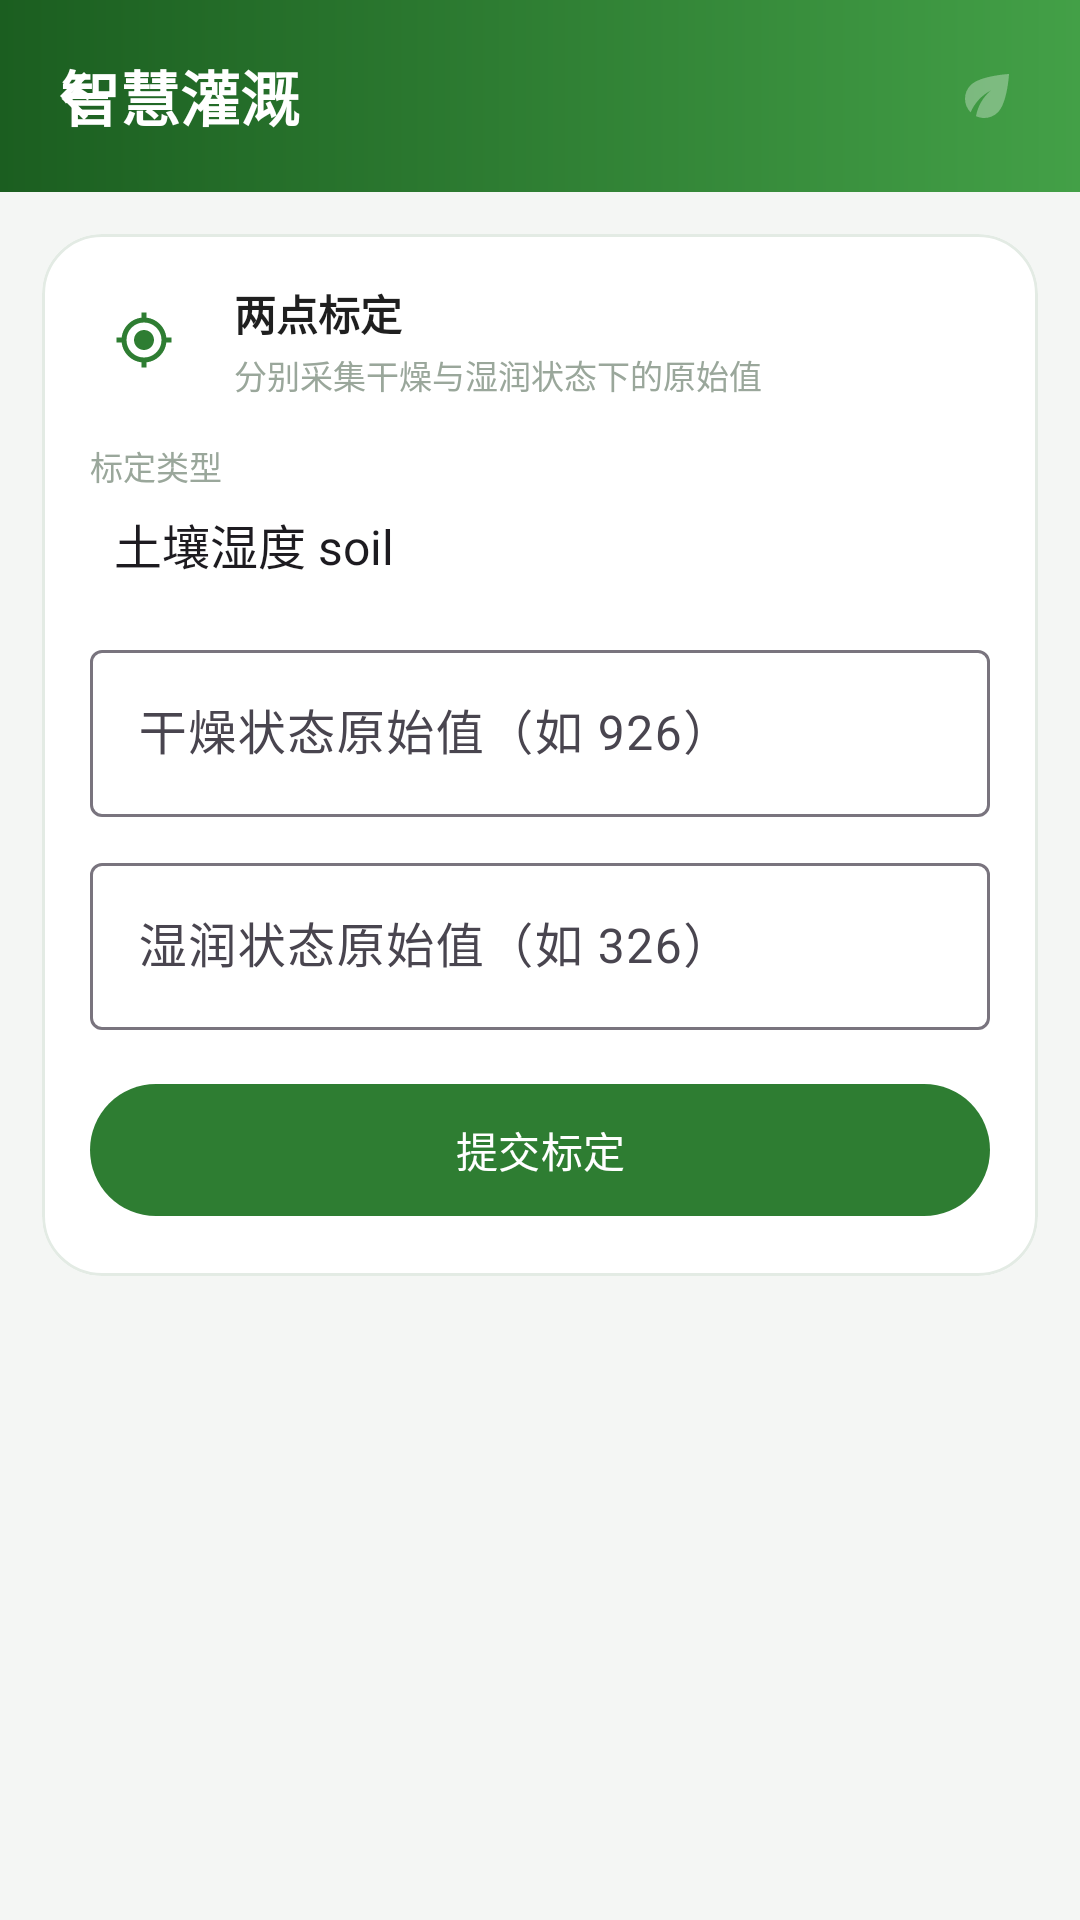

Named icons in this screenshot (1080 × 1920) and their bounding boxes, [x1=x1, y1=y1, x2=x2, y2=y2]:
leaf: [x1=965, y1=74, x2=1009, y2=118]
target: [x1=116, y1=312, x2=172, y2=368]
